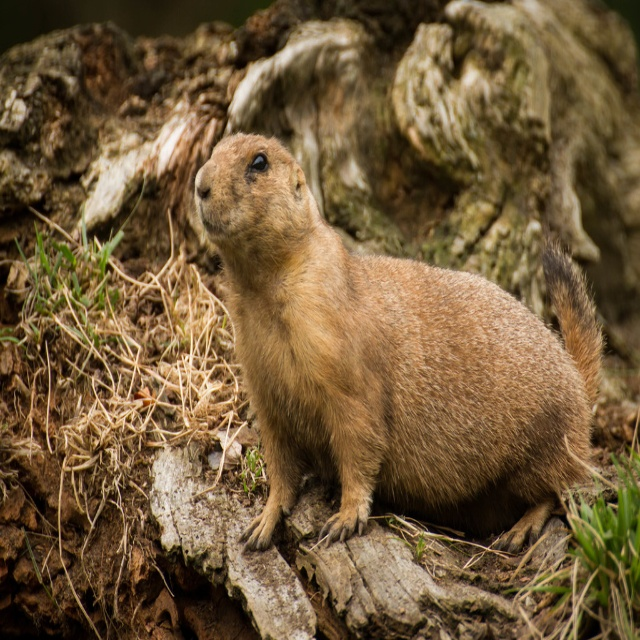Otter: (181, 131, 612, 548)
